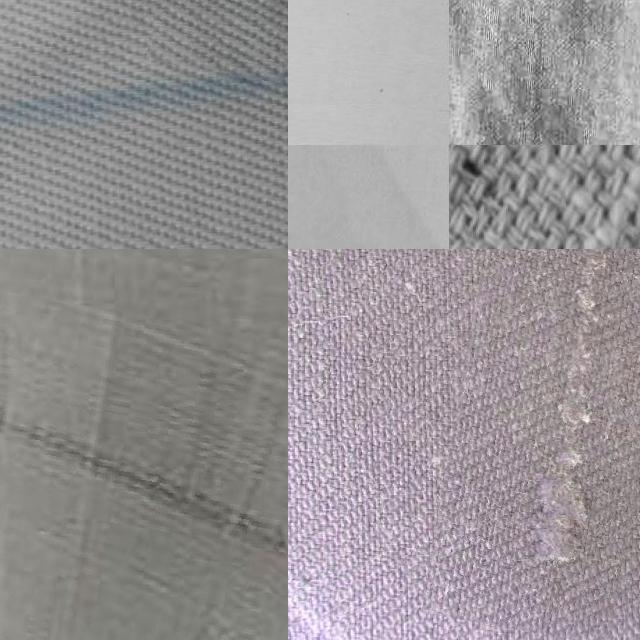stains: (0, 296, 288, 640), (446, 249, 640, 639), (155, 0, 288, 77)
